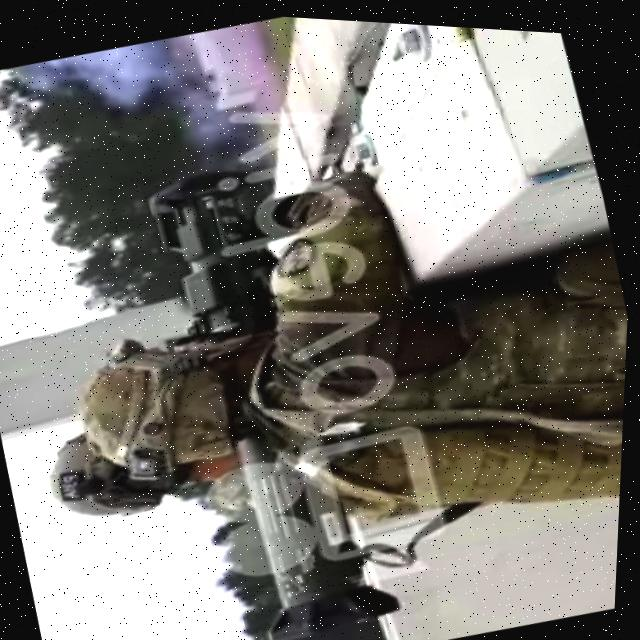rocket: (114, 151, 411, 640)
